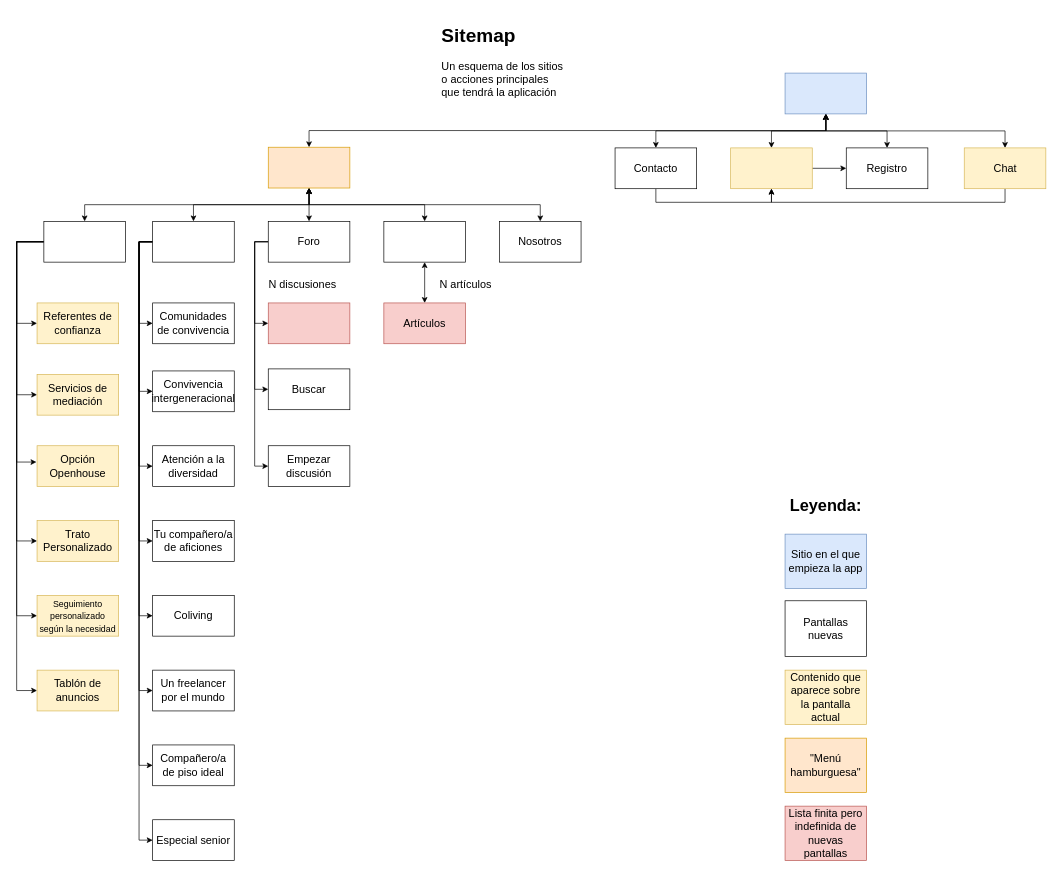
Some shapes in this 1058 by 872 pixel diagram are drawn without their labels. Here are the shapes that lost their labels. From the top down, the centre of each, then its label:
point (825, 93): Pantalla de inicio
point (309, 167): Menú
point (771, 168): Iniciar Sesión
point (84, 241): Cómo funciona
point (193, 241): Experiencias
point (424, 241): Blog
point (309, 323): Discusiones
